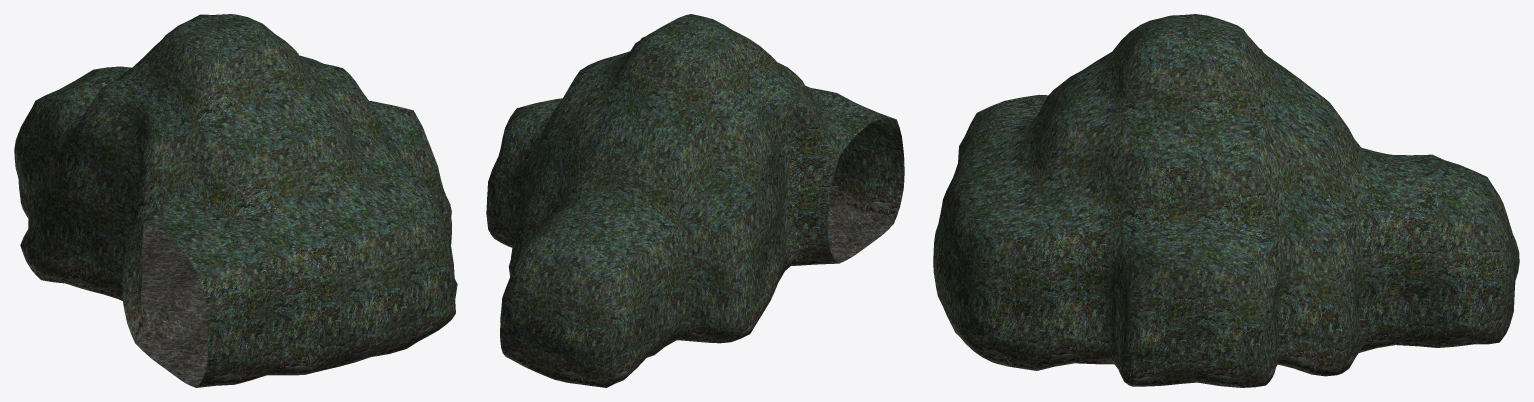
Rendered from thm_all_cave_s03_damprock_r27_r27.fbx.
3 renders of one model, left to right at view 1: azimuth 30°, elevation 25°; view 2: azimuth 150°, elevation 25°; view 3: azimuth 270°, elevation 25°, orthographic. The views are drawn at different scales.
Visible parts, largest first — view 1: mesh_node; view 2: mesh_node; view 3: mesh_node.
Part boxes in pixels (x1,y1,x2,y2): mesh_node: (14,14,457,387); mesh_node: (486,14,904,387); mesh_node: (933,14,1519,387).
Bounding box in the file's own units: 40.47 × 33.41 × 59.
